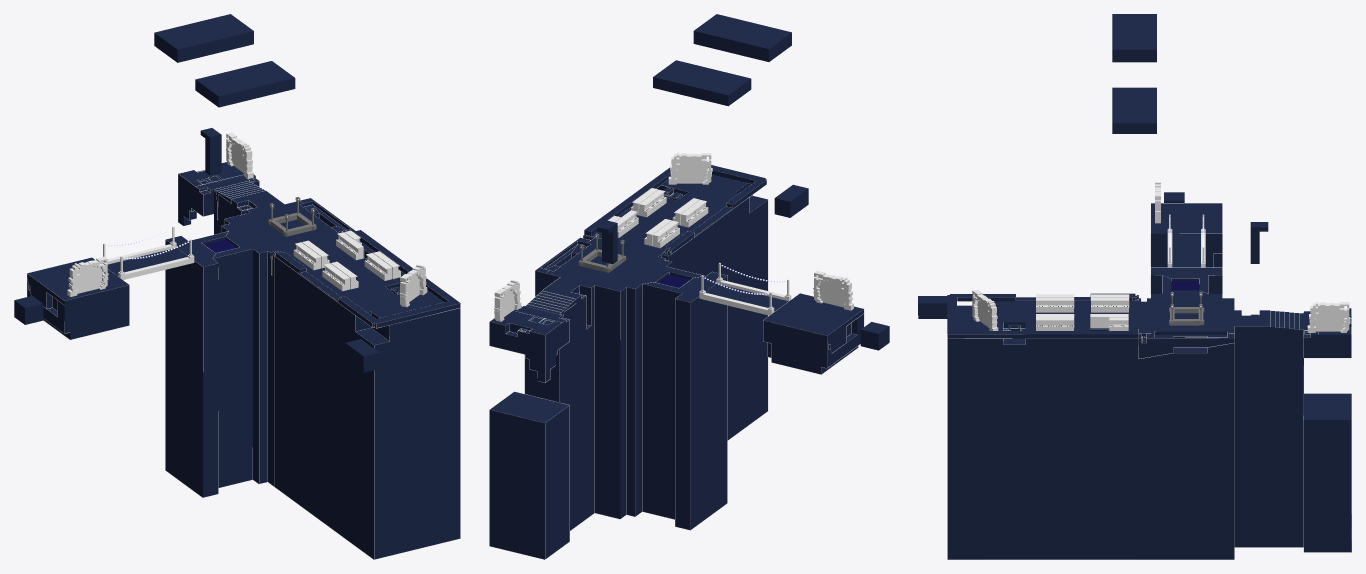
The model's file is Hub 5.fbx.
The picture shows the model from 3 angles, left to right: view 1: azimuth 30°, elevation 25°; view 2: azimuth 150°, elevation 25°; view 3: azimuth 270°, elevation 25°; orthographic projection. The views are drawn at different scales.
Visible parts, largest first — view 1: Arcade Zone Floor, Dice Zone Floor 1, Arcade Zone Ceiling, Dice Zone Floor 2, Central Hall Floor, Outline, Arcade Zone Railings, Arrival, Stairs, Arcade Zone Fragment, Bridge Planks, Link to Hub (+8 smaller); view 2: Dice Zone Floor 1, Arrival, Arcade Zone Floor, Central Hall Floor, Arcade Zone Ceiling, Dice Zone Floor 2, Outline, Link to Hub, Stairs, Arcade Zone Railings, Arcade Zone Fragment, Bridge Planks (+10 smaller); view 3: Arcade Zone Floor, Central Hall Floor, Arrival, Link to Hub, Stairs, Arcade Zone Ceiling, Dice Zone Floor 2, Outline, Arcade Zone Railings, Dice Zone Floor 1, Bridge Planks, Arcade Zone Fragment (+4 smaller).
Boxes of the visible parts, x1=… form: Arcade Zone Floor: x1=274, y1=240, x2=460, y2=559; Dice Zone Floor 1: x1=165, y1=223, x2=267, y2=497; Arcade Zone Ceiling: x1=154, y1=14, x2=295, y2=107; Dice Zone Floor 2: x1=27, y1=257, x2=129, y2=339; Central Hall Floor: x1=224, y1=198, x2=355, y2=485; Outline: x1=27, y1=161, x2=460, y2=559; Arcade Zone Railings: x1=274, y1=230, x2=460, y2=327; Arrival: x1=178, y1=162, x2=259, y2=225; Stairs: x1=214, y1=181, x2=264, y2=234; Arcade Zone Fragment: x1=345, y1=339, x2=379, y2=372; Bridge Planks: x1=107, y1=248, x2=187, y2=275; Link to Hub: x1=231, y1=191, x2=284, y2=216; Dice Zone Floor 1: x1=626, y1=260, x2=727, y2=529; Arrival: x1=489, y1=306, x2=569, y2=559; Arcade Zone Floor: x1=591, y1=174, x2=767, y2=440; Central Hall Floor: x1=535, y1=234, x2=669, y2=518; Arcade Zone Ceiling: x1=653, y1=14, x2=791, y2=106; Dice Zone Floor 2: x1=763, y1=293, x2=863, y2=374; Outline: x1=489, y1=167, x2=864, y2=559; Link to Hub: x1=542, y1=277, x2=594, y2=525; Stairs: x1=525, y1=291, x2=576, y2=530; Arcade Zone Railings: x1=584, y1=165, x2=766, y2=255; Arcade Zone Fragment: x1=774, y1=184, x2=808, y2=217; Bridge Planks: x1=706, y1=283, x2=788, y2=311; Arcade Zone Floor: x1=947, y1=299, x2=1138, y2=559; Central Hall Floor: x1=1138, y1=298, x2=1234, y2=559; Arrival: x1=1303, y1=308, x2=1351, y2=552; Link to Hub: x1=1234, y1=310, x2=1270, y2=547; Stairs: x1=1270, y1=311, x2=1303, y2=547; Arcade Zone Ceiling: x1=1112, y1=14, x2=1156, y2=133; Dice Zone Floor 2: x1=1151, y1=203, x2=1222, y2=267; Outline: x1=947, y1=203, x2=1351, y2=559; Arcade Zone Railings: x1=947, y1=293, x2=1138, y2=338; Dice Zone Floor 1: x1=1151, y1=268, x2=1222, y2=298; Bridge Planks: x1=1172, y1=233, x2=1200, y2=267; Arcade Zone Fragment: x1=918, y1=296, x2=947, y2=318.
Size of the model in its own units: 14917 by 20946 by 18133.
